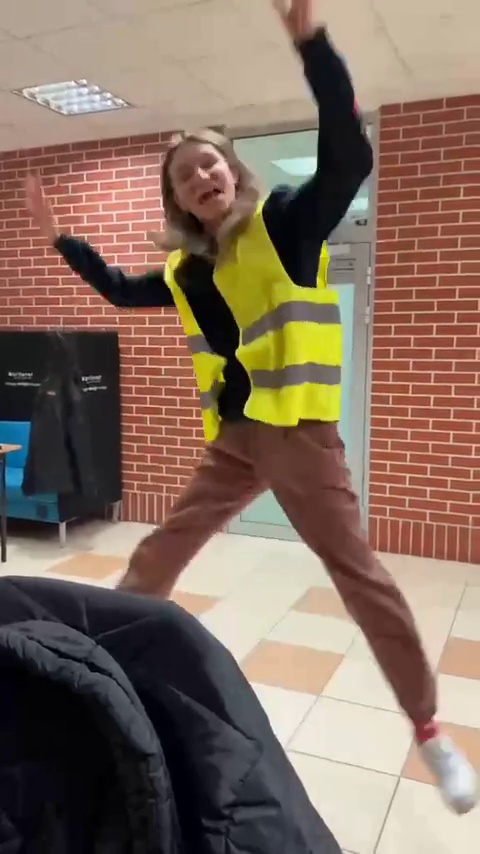vest: (121, 175, 453, 751)
